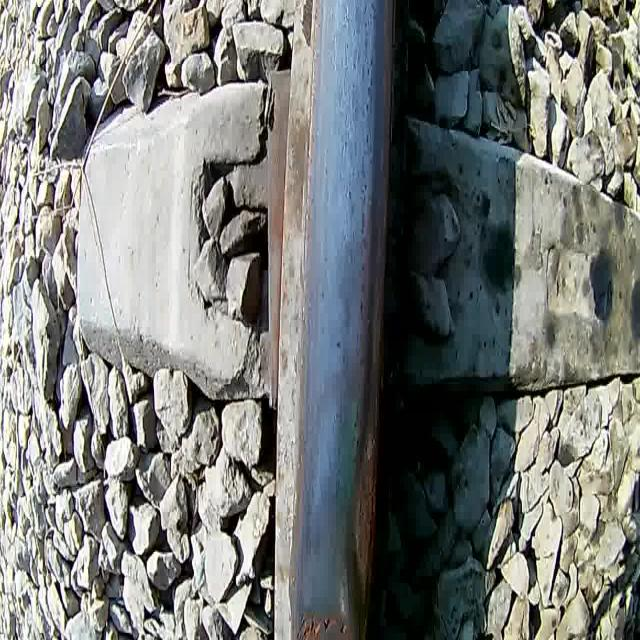Spallings: (294, 604, 355, 640)
